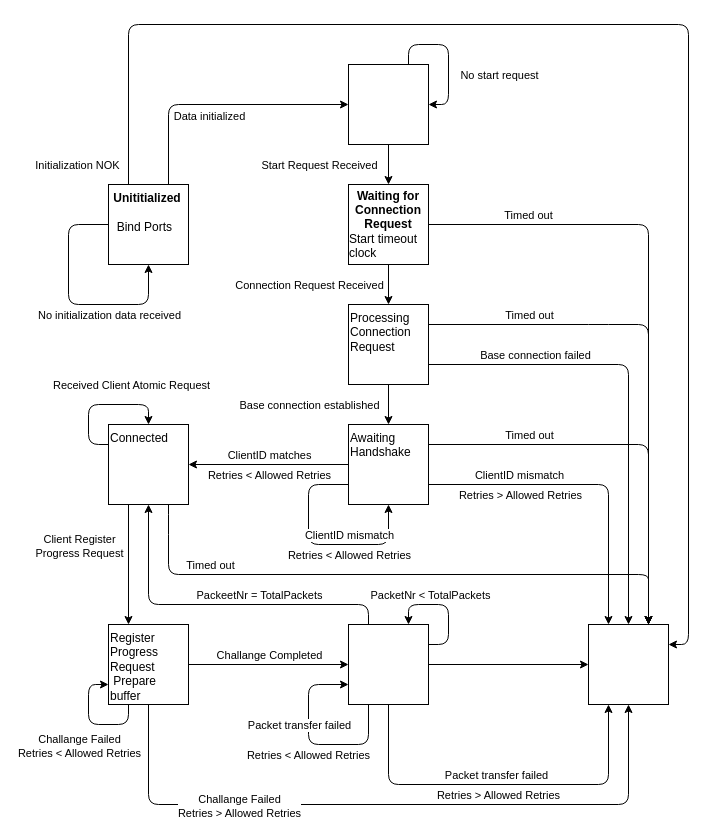
Image size: 714x836. Some labels were removed from this diagram. The centre of each missing label's shape, as x and y in pixels:
"Fault" belongs at (628,664).
"Initialized" belongs at (388,104).
"Registering Progress" belongs at (388,664).
